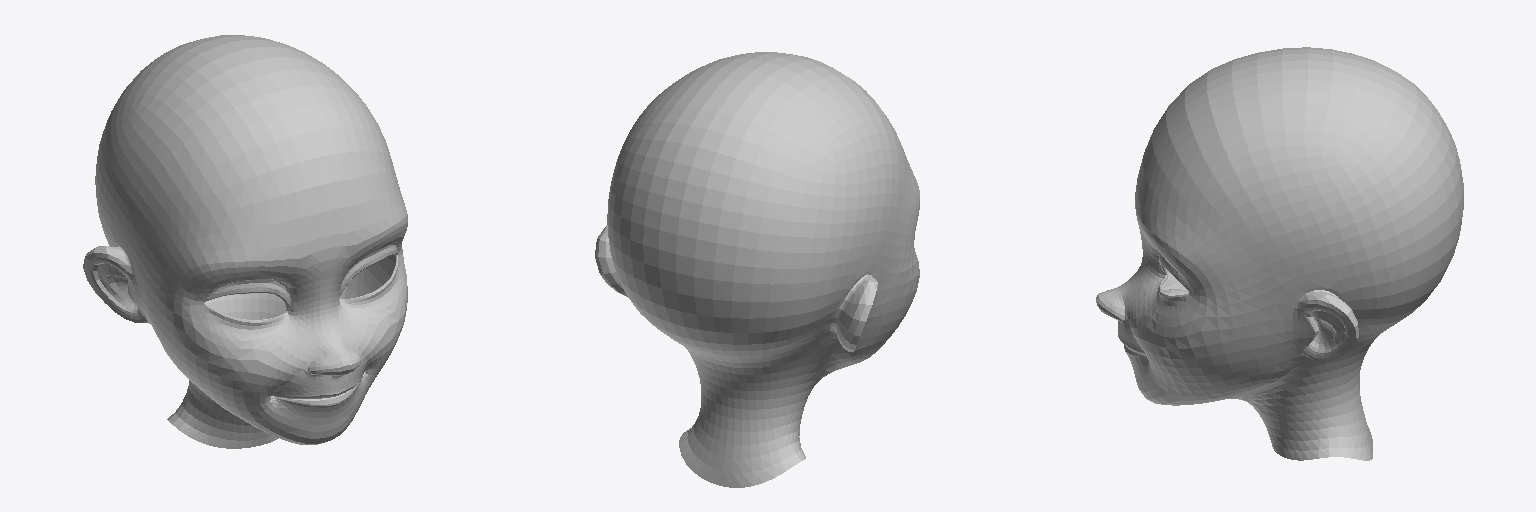
Rendered from pos1.obj.
3 renders of one model, left to right at view 1: azimuth 30°, elevation 25°; view 2: azimuth 150°, elevation 25°; view 3: azimuth 270°, elevation 25°, orthographic.
Parts seen in each view (by area): view 1: Mesh; view 2: Mesh; view 3: Mesh.
Boxes of the visible parts, <box> form: Mesh: <box>83,35,407,448</box>; Mesh: <box>595,52,919,487</box>; Mesh: <box>1096,47,1463,460</box>.
Bounding box in the file's own units: 23.75 × 32.31 × 27.53.